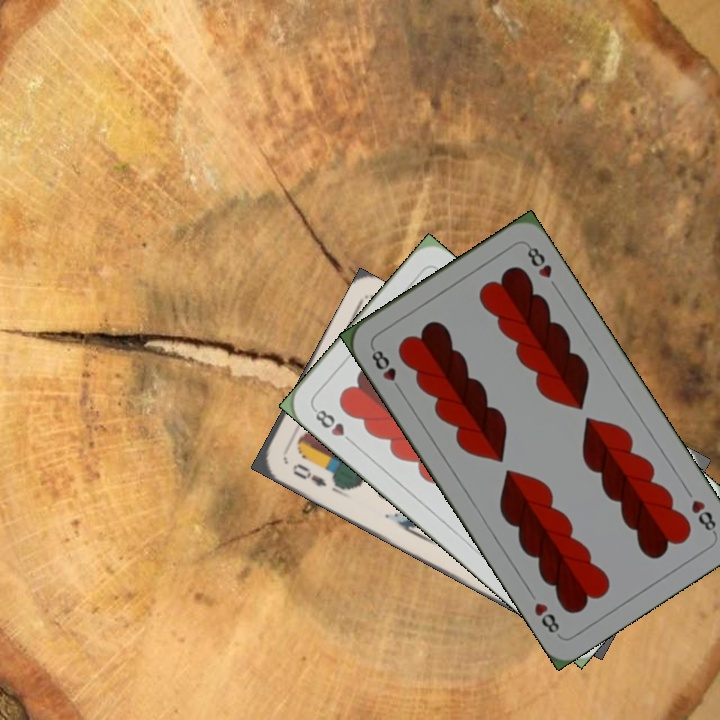EO: (288, 459, 329, 490)
H8: (309, 404, 358, 448), (367, 343, 405, 395), (687, 495, 719, 537)
